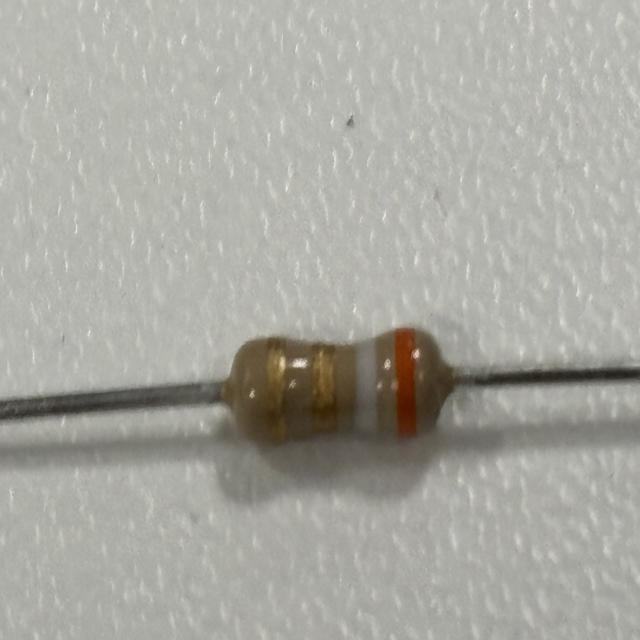resistor: (238, 324, 442, 449)
